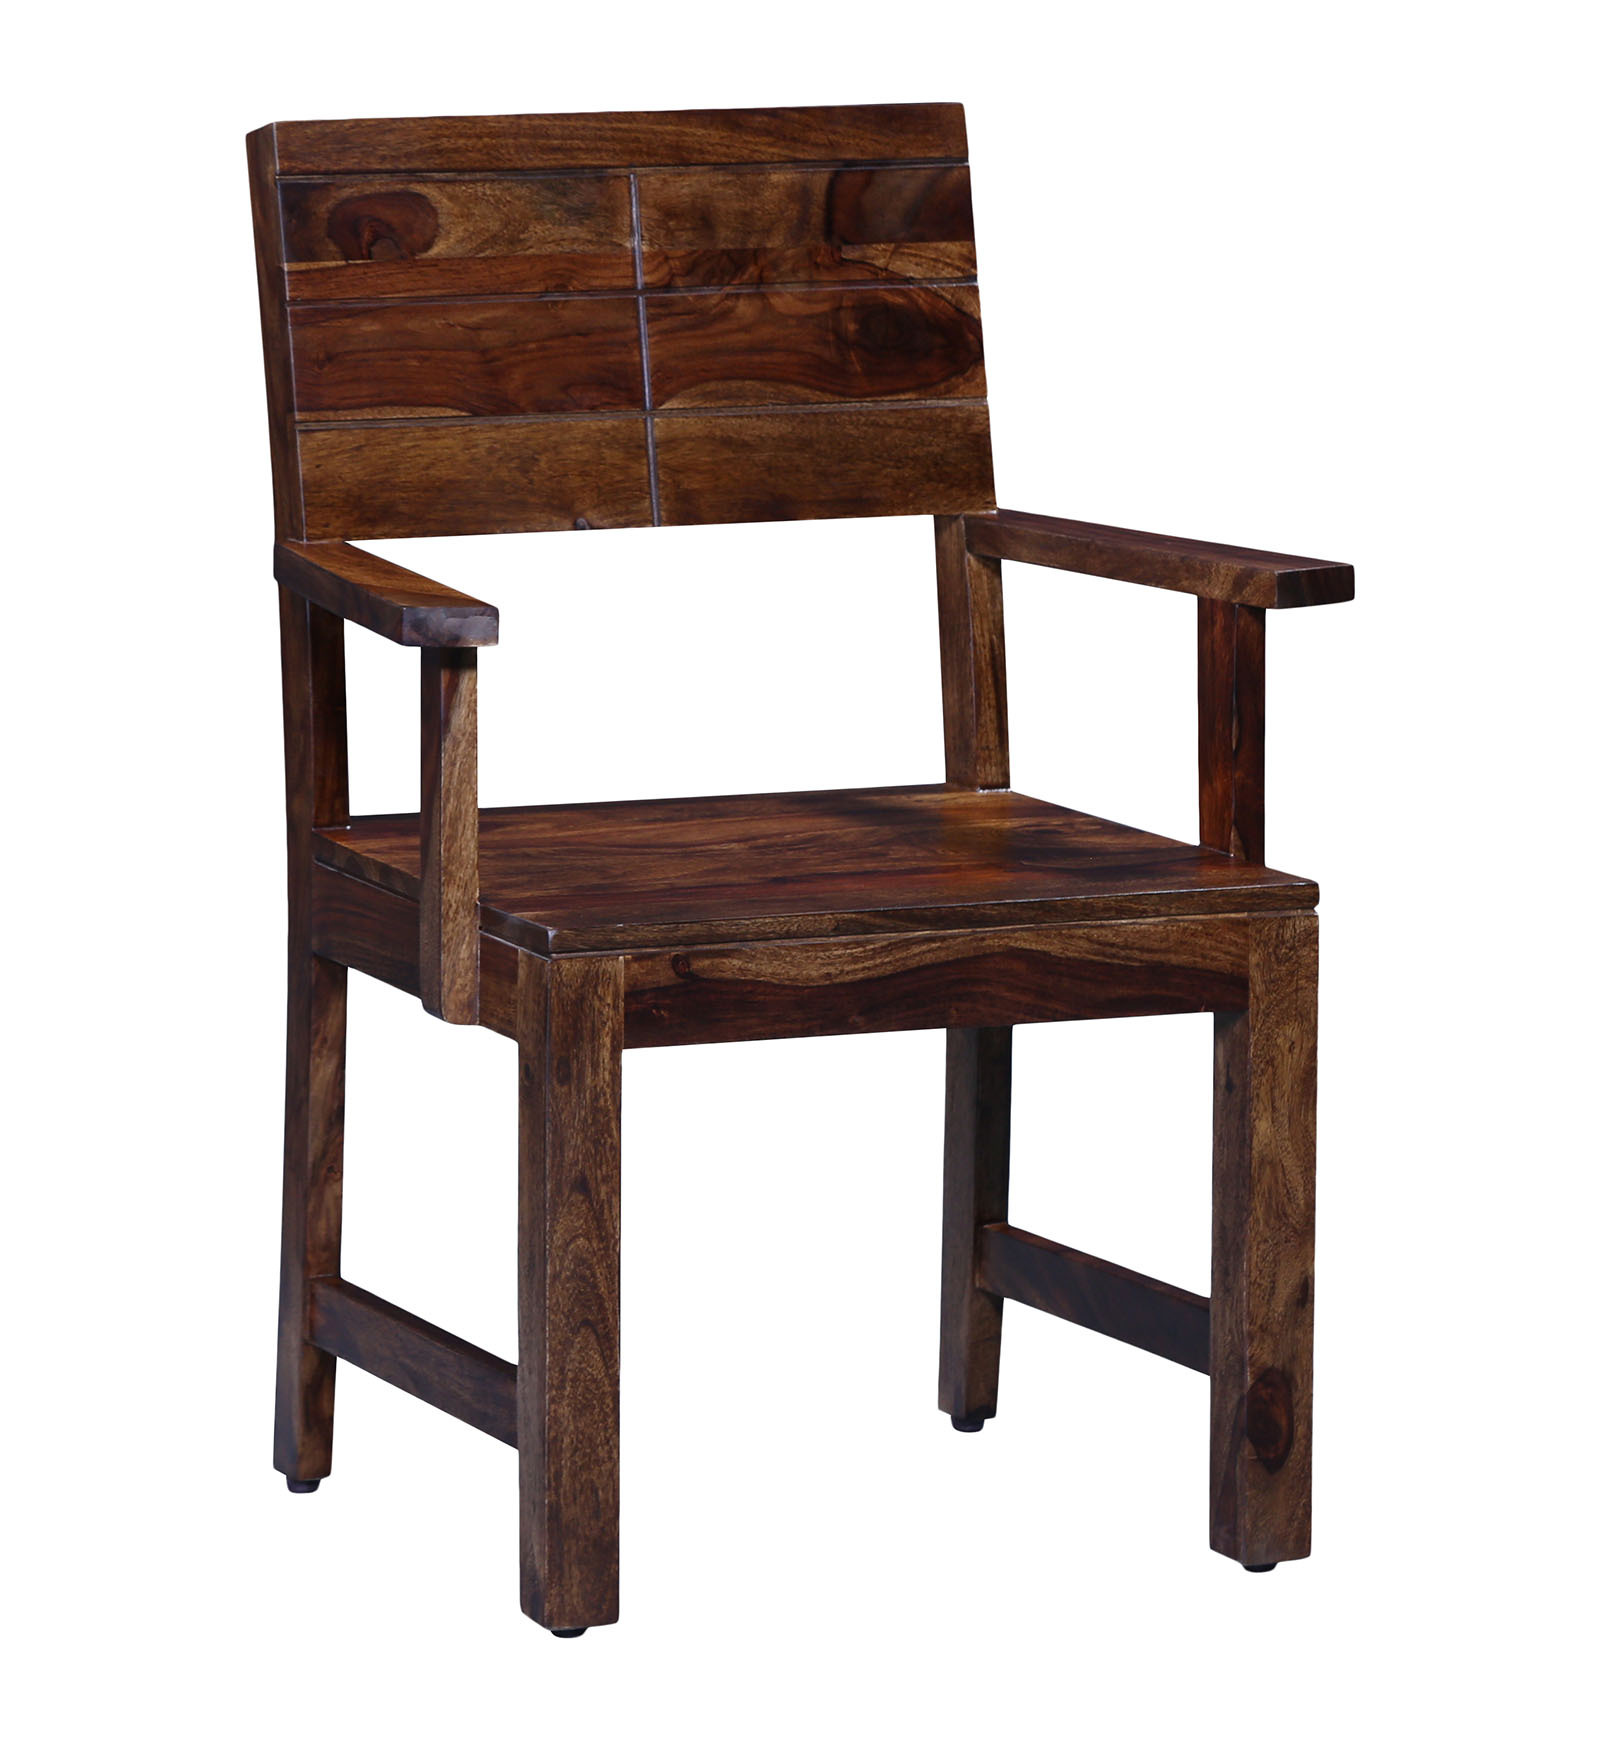Segur Arm Chair in Provincial Teak Finish by Woodsworth: (155, 66, 1379, 1634)
